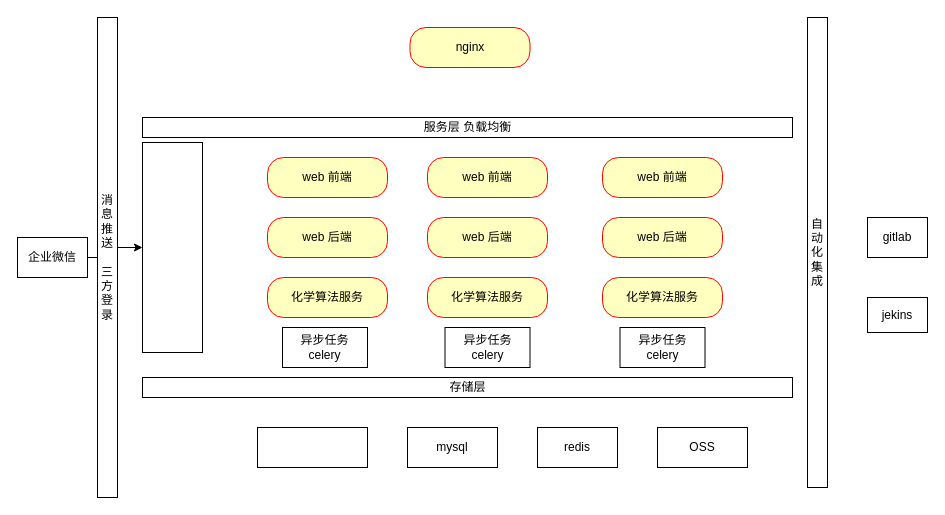
This 945x515 diagram has some shape labels left out. Each missing label, with the centre of its shape:
docker 容器化部署: (172,247)
elasticsearch: (312,447)
